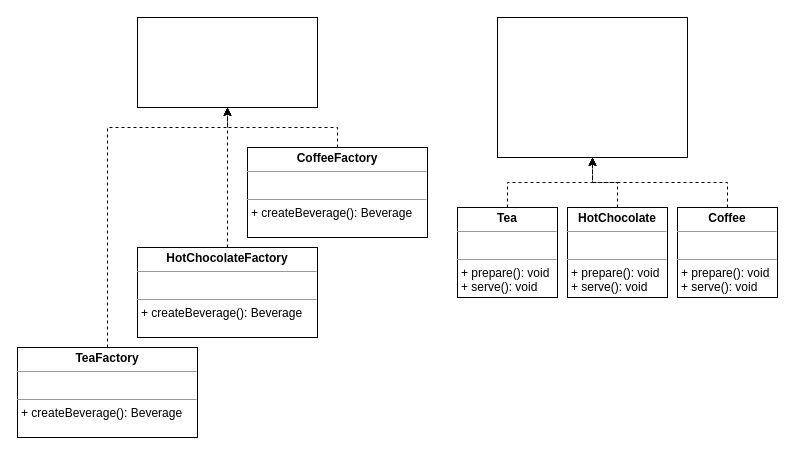
The diagram is 795 pixels wide and 455 high, and some of its shapes have lost their labels. Each missing label, with the box of its shape:
<<Interface>> Beverage + prepare(): void + serve(): void: (496, 16, 688, 158)
BeverageFactory + createBeverage(): Beverage: (136, 16, 318, 108)
